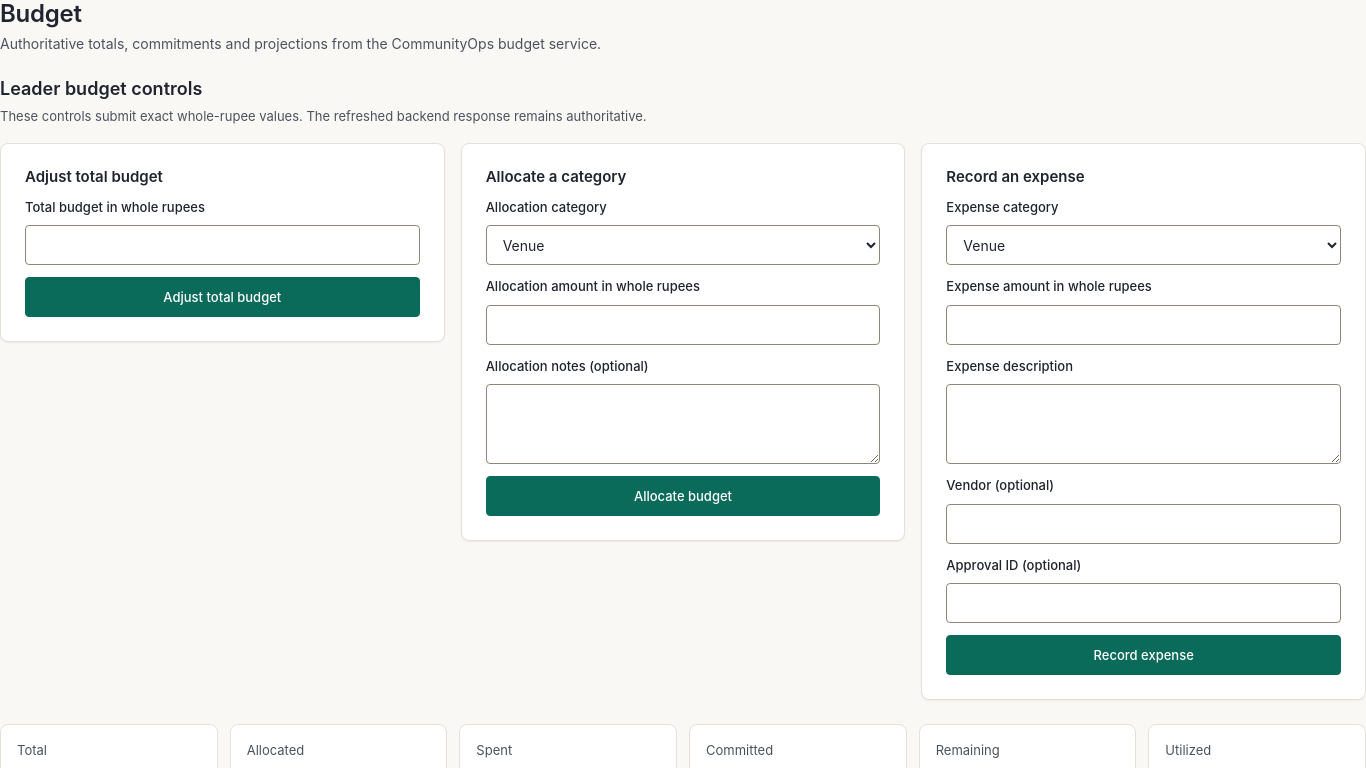
Test case: Budget leader controls › locks every mutation form while one write and its authoritative refresh are in flight
In the field labelled "Allocation amount in whole rupees": (683,325) [486,305,880,345], type "1000"
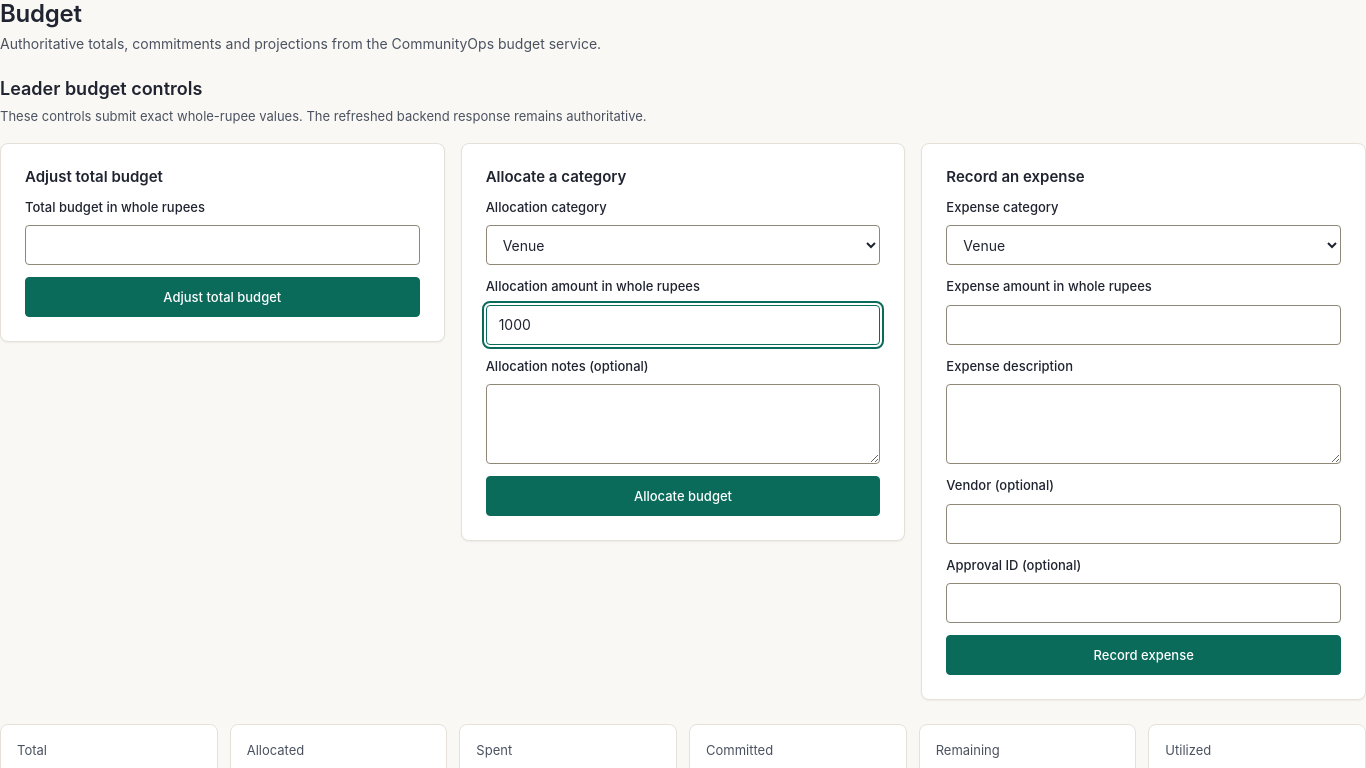
Click the button "Allocate budget": (683,496) [486,476,880,516]
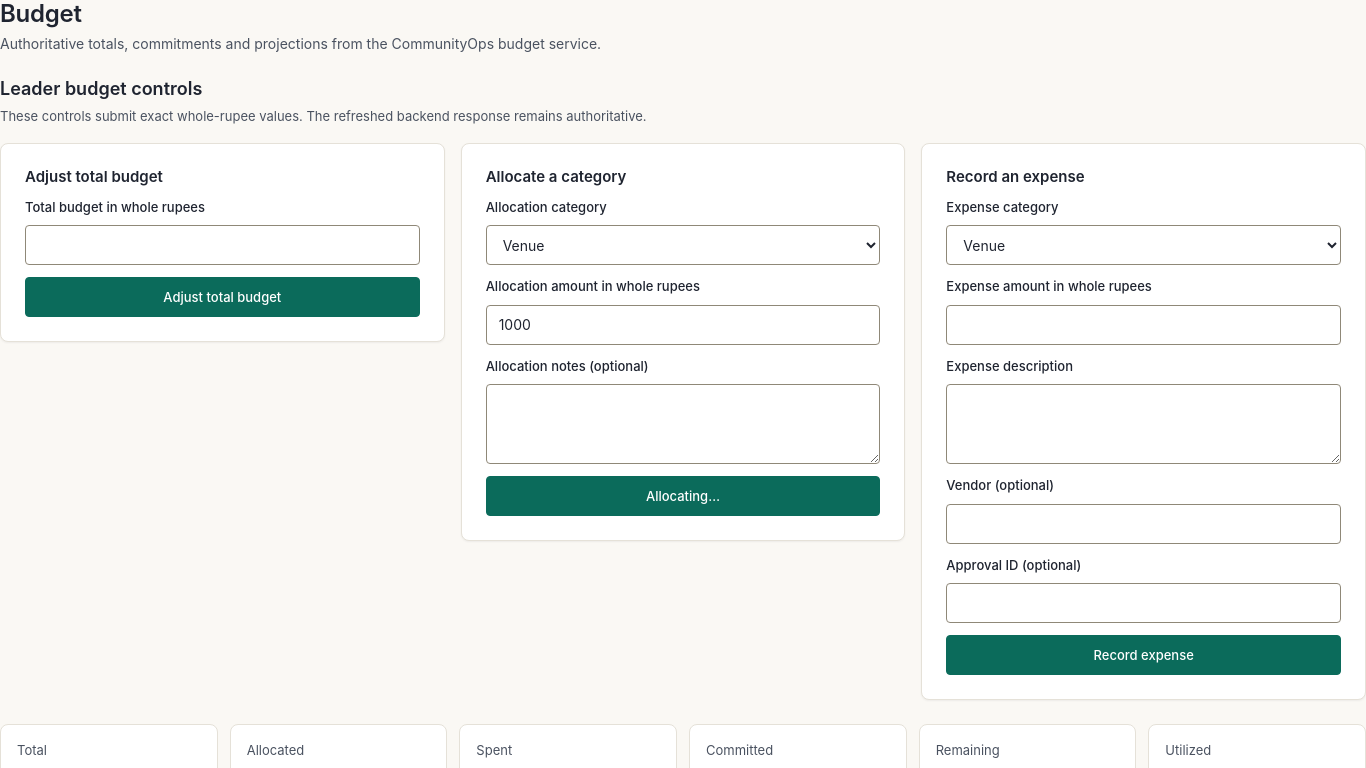
Expected: the button "Adjust total budget" is disabled, [25,277,420,317]
Result: the button "Allocating…" is disabled at [486,476,880,516]
Click the button "Record expense": (1144,655) [946,635,1341,675]
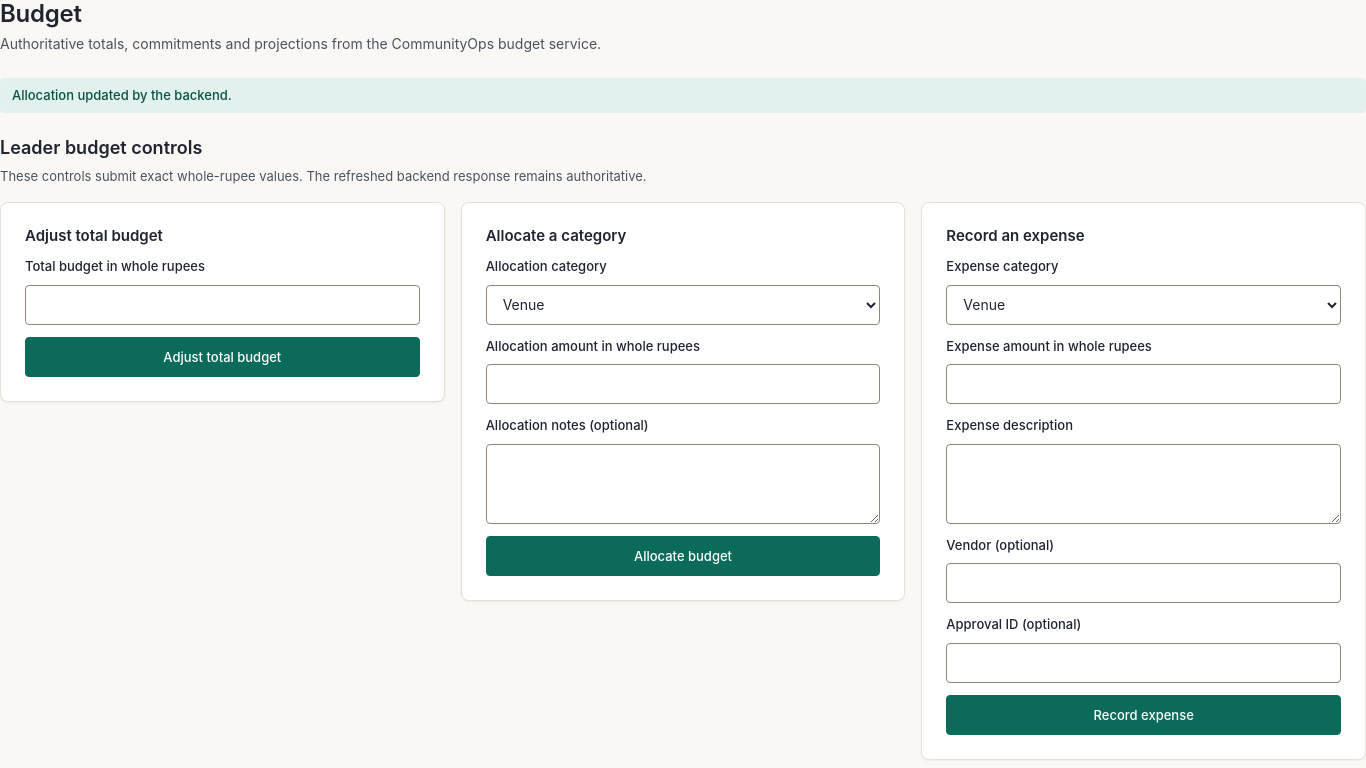
Result: the text "Allocation updated by the backend." is shown at [0,78,1365,113]
Result: the button "Adjust total budget" is enabled at [25,337,420,377]
Result: the button "Allocate budget" is enabled at [486,536,880,576]
